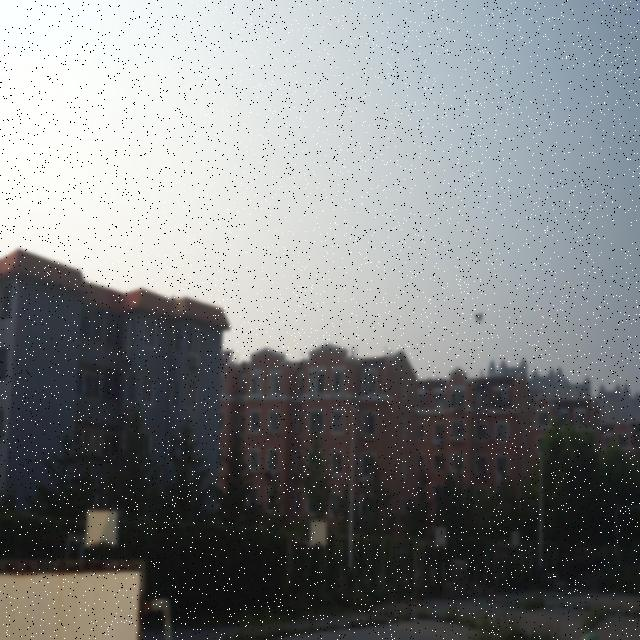UAV: (473, 312, 484, 324)
